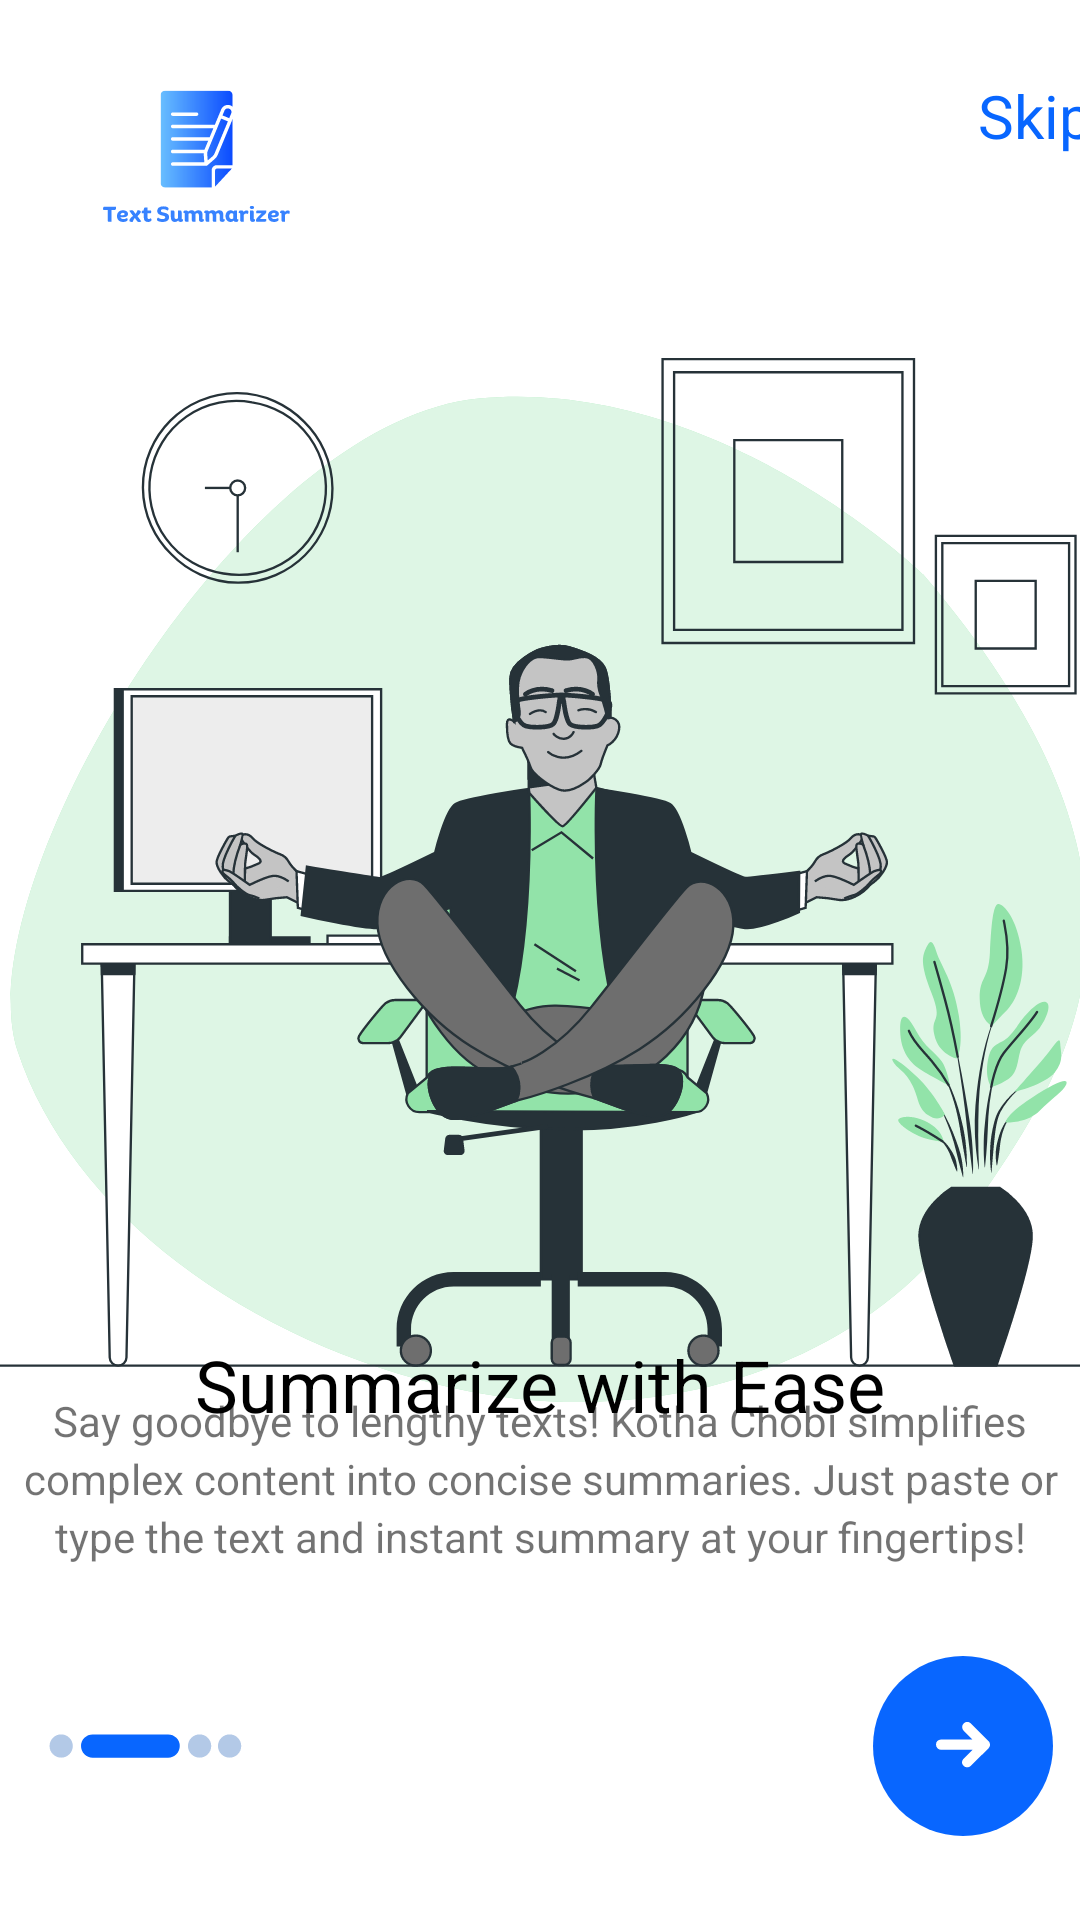

Where to tap for icons on this 1080px x 1920px app screen, as point (x, y):
next btn: point (963, 1746)
